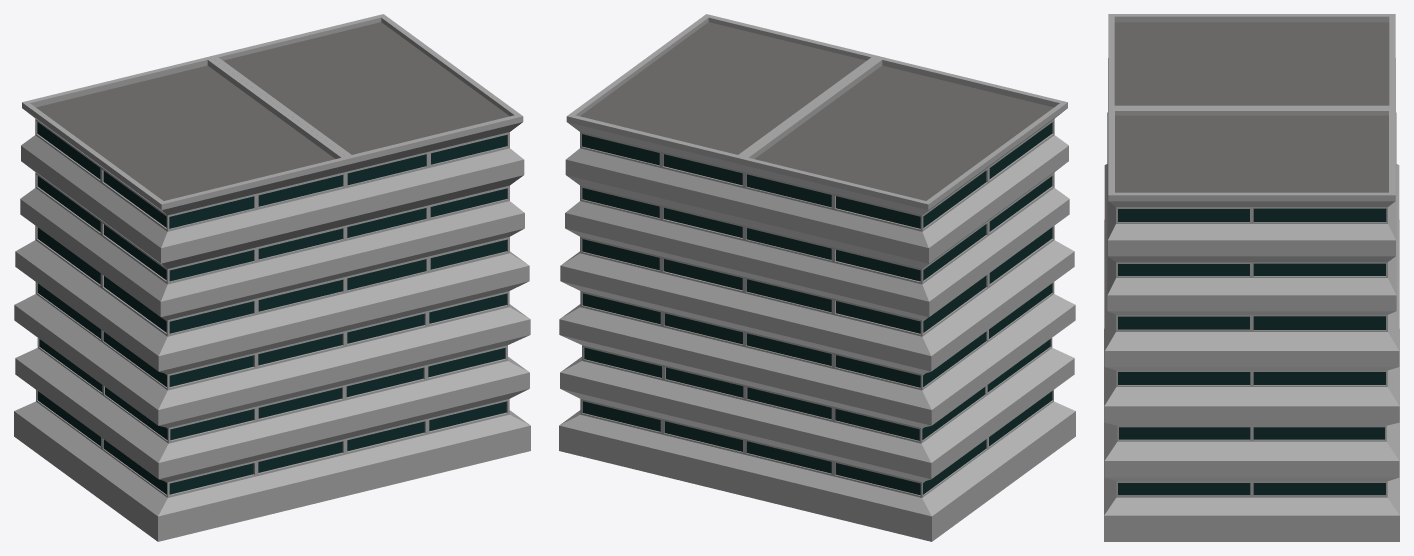
The model's file is poo4u).fbx.
3 renders of one model, left to right at view 1: azimuth 30°, elevation 25°; view 2: azimuth 150°, elevation 25°; view 3: azimuth 270°, elevation 25°, orthographic. The views are drawn at different scales.
Parts seen in each view (by area): view 1: building 1.001; view 2: building 1.001; view 3: building 1.001.
Boxes of the visible parts, x1,y1,x2,y2 form: building 1.001: [14, 14, 530, 541]; building 1.001: [559, 14, 1075, 541]; building 1.001: [1104, 14, 1399, 541].
Bounding box in the file's own units: 731 × 627 × 489.
